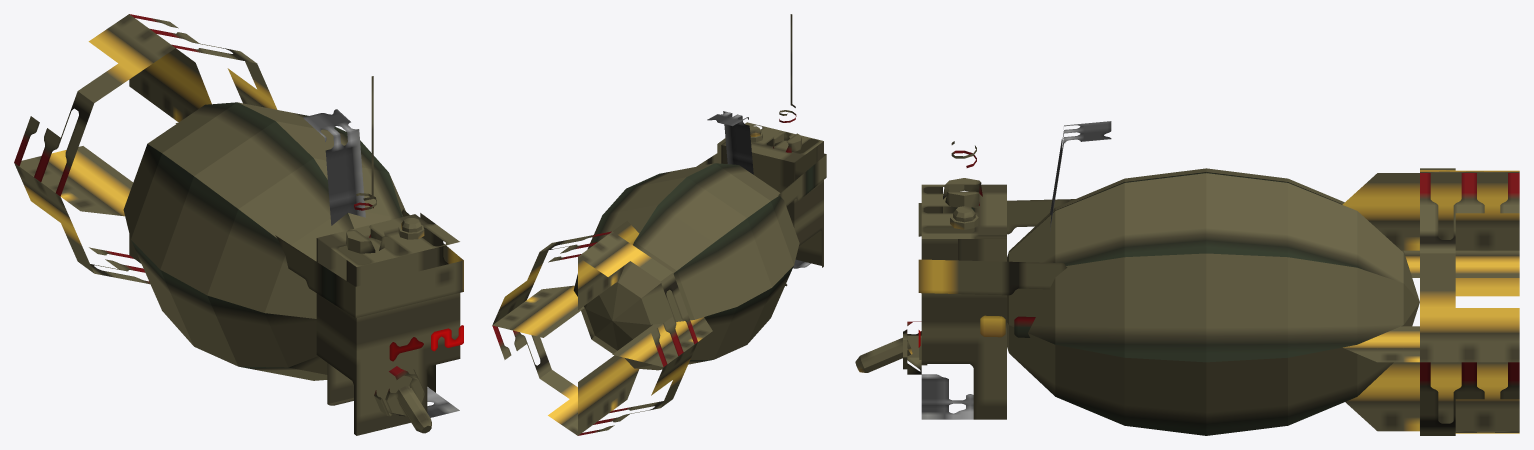
File: mine_fat.obj
The picture shows the model from 3 angles, left to right: view 1: azimuth 30°, elevation 25°; view 2: azimuth 150°, elevation 25°; view 3: azimuth 270°, elevation 25°; orthographic projection. The views are drawn at different scales.
Parts seen in each view (by area): view 1: Sphere; view 2: Sphere; view 3: Sphere.
Boxes of the visible parts, x1,y1,x2,y2 form: Sphere: [14, 14, 463, 435]; Sphere: [492, 14, 826, 435]; Sphere: [855, 121, 1519, 435].
Size of the model in its own units: 1 by 1.57 by 2.33.
